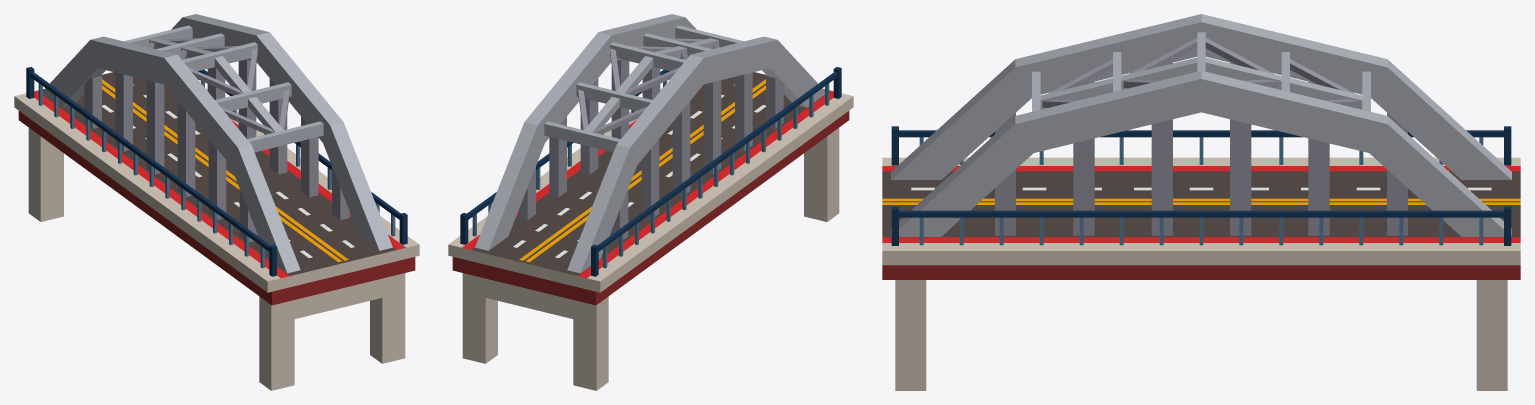
Rendered from hangangBridge.FBX.
3 views of the same model, side by side, from view 1: azimuth 30°, elevation 25°; view 2: azimuth 150°, elevation 25°; view 3: azimuth 270°, elevation 25° (orthographic). The views are drawn at different scales.
Parts seen in each view (by area): view 1: hangangBridge; view 2: hangangBridge; view 3: hangangBridge.
Boxes of the visible parts, left/top/right/bottom form: hangangBridge: left=14, top=14, right=419, bottom=390; hangangBridge: left=448, top=14, right=853, bottom=390; hangangBridge: left=882, top=14, right=1520, bottom=390.
Size of the model in its own units: 2.45 by 3.71 by 7.08.
